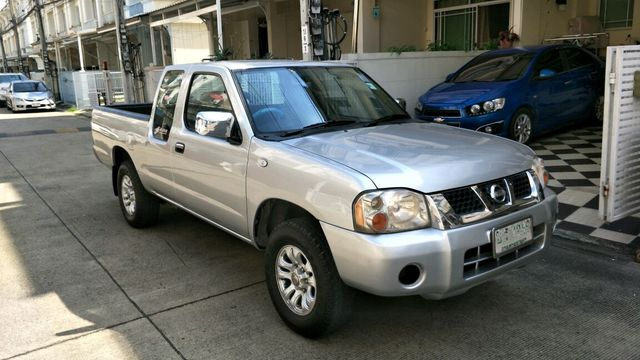pickup: (84, 54, 559, 338)
